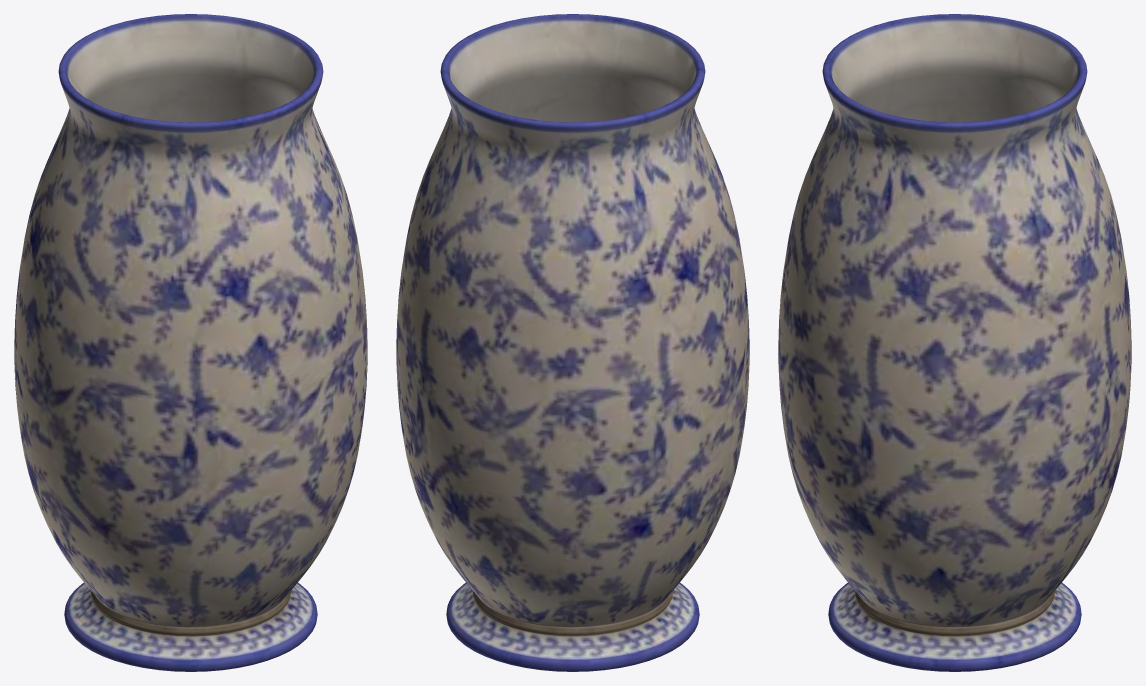
Rendered from antique_ceramic_vase_01.2d1a3fcd.glb.
The picture shows the model from 3 angles, left to right: view 1: azimuth 30°, elevation 25°; view 2: azimuth 150°, elevation 25°; view 3: azimuth 270°, elevation 25°; orthographic projection.
Parts seen in each view (by area): view 1: antique_ceramic_vase_01; view 2: antique_ceramic_vase_01; view 3: antique_ceramic_vase_01.
Boxes of the visible parts, x1=… form: antique_ceramic_vase_01: x1=14, y1=14, x2=367, y2=671; antique_ceramic_vase_01: x1=396, y1=14, x2=749, y2=671; antique_ceramic_vase_01: x1=778, y1=14, x2=1131, y2=671.
Bounding box in the file's own units: 0.5802 × 1 × 0.5802.
1 material, 1 textured.
